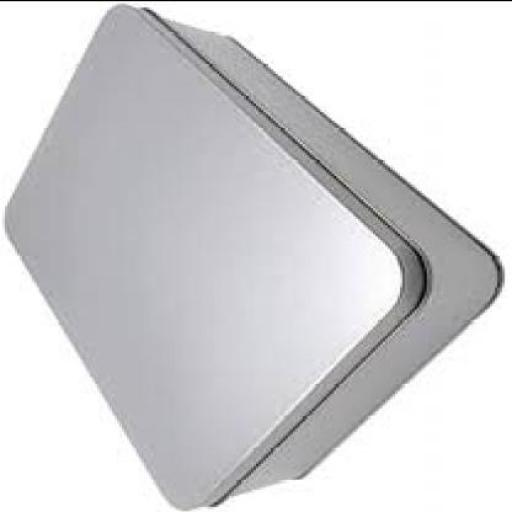metal: (0, 6, 503, 510)
